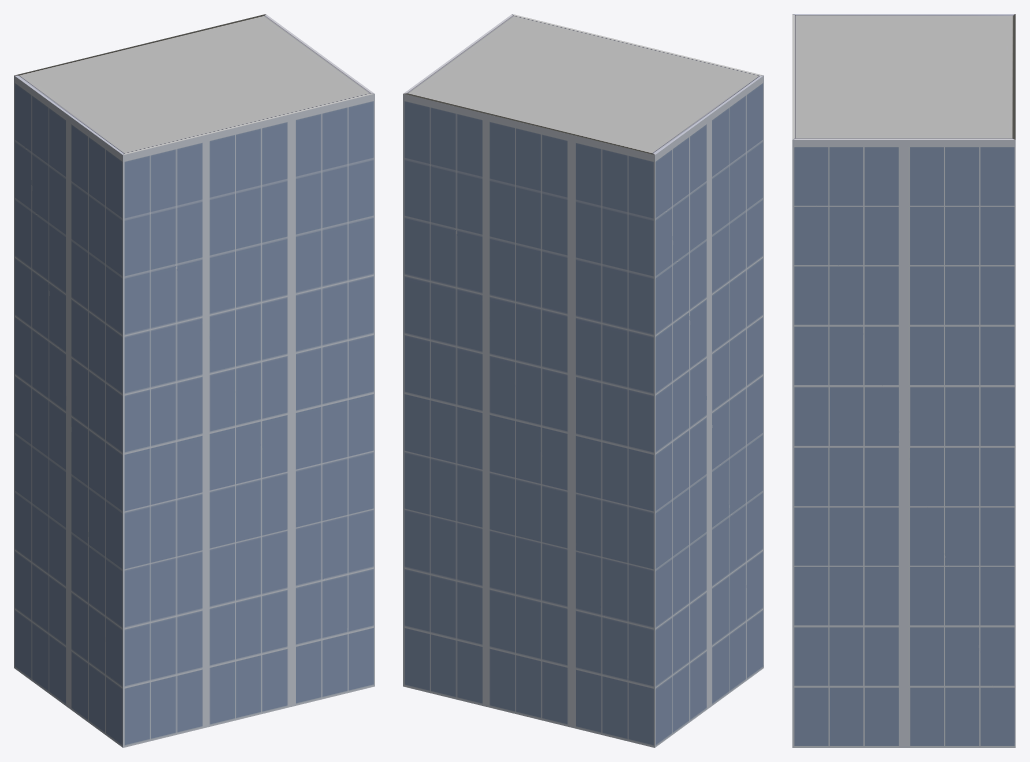
File: testui3.gltf
3 views of the same model, side by side, from view 1: azimuth 30°, elevation 25°; view 2: azimuth 150°, elevation 25°; view 3: azimuth 270°, elevation 25° (orthographic). The views are drawn at different scales.
Parts seen in each view (by area): view 1: 立方体-玻璃幕墙-正, 立方体-玻璃-侧, 立方体-材质; view 2: 立方体-玻璃幕墙-正, 立方体-玻璃-侧, 立方体-材质; view 3: 立方体-玻璃-侧, 立方体-材质.
Boxes of the visible parts, left/top/right/bottom form: 立方体-玻璃幕墙-正: left=123, top=94, right=374, bottom=747; 立方体-玻璃-侧: left=14, top=75, right=122, bottom=747; 立方体-材质: left=14, top=14, right=374, bottom=154; 立方体-玻璃幕墙-正: left=403, top=94, right=654, bottom=747; 立方体-玻璃-侧: left=655, top=75, right=763, bottom=747; 立方体-材质: left=403, top=14, right=763, bottom=154; 立方体-玻璃-侧: left=792, top=140, right=1015, bottom=747; 立方体-材质: left=792, top=14, right=1015, bottom=139.
Bounding box in the file's own units: 400 × 900 × 300.
Materials: 3 (3 with a texture image).
